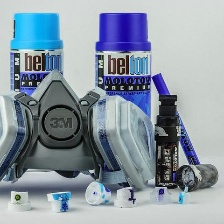aerosol_cans: (92, 9, 153, 183), (7, 8, 67, 173)
